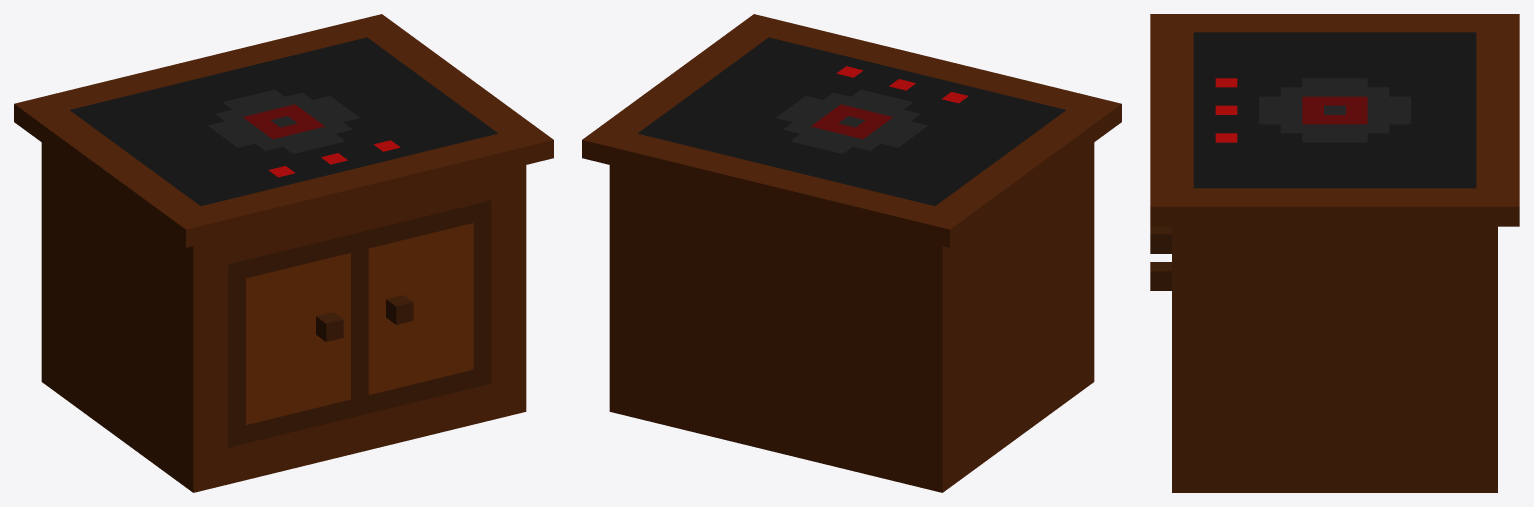
The model's file is vitro.obj.
3 views of the same model, side by side, from view 1: azimuth 30°, elevation 25°; view 2: azimuth 150°, elevation 25°; view 3: azimuth 270°, elevation 25° (orthographic). The views are drawn at different scales.
Bounding box in the file's own units: 2.1 × 1.6 × 1.7.
